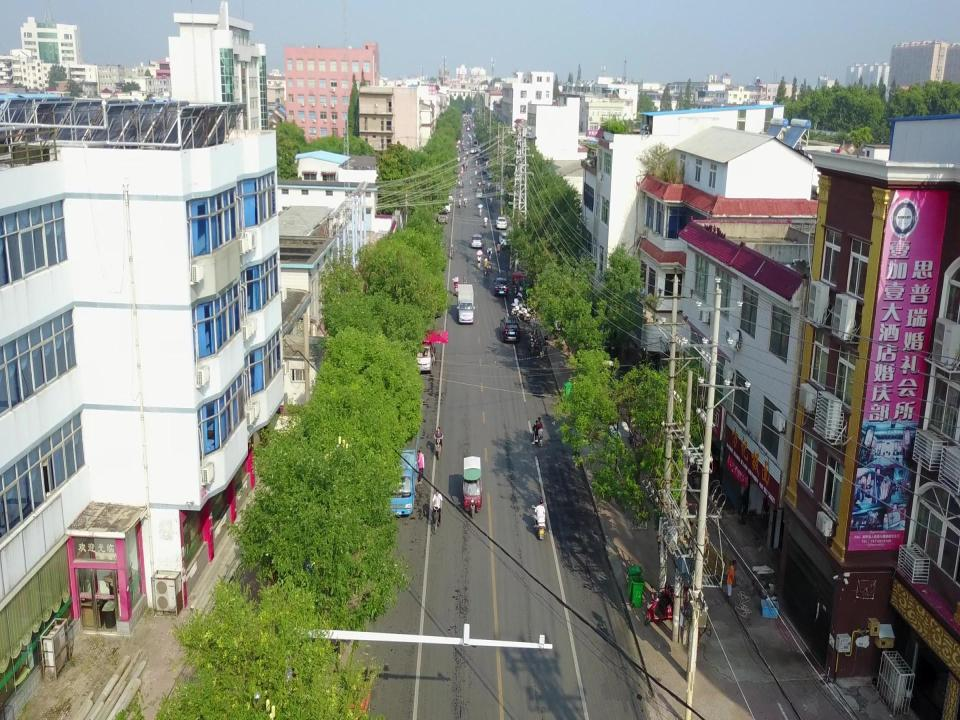car: (500, 316, 520, 340), (494, 276, 508, 295), (472, 233, 484, 250), (500, 232, 512, 245), (438, 208, 448, 222), (441, 201, 451, 214), (496, 217, 506, 229), (445, 190, 455, 202), (476, 187, 483, 200)
truck: (387, 444, 415, 514), (416, 330, 436, 375), (458, 286, 474, 325)
